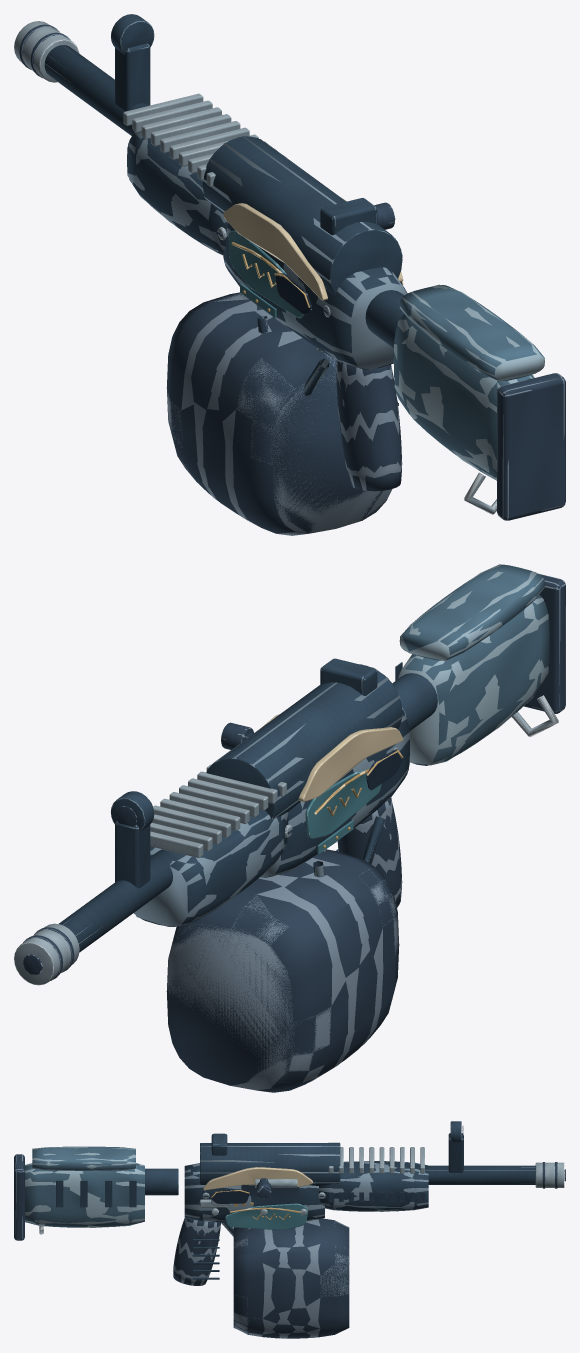
The model's file is anime-m249.glb.
3 views of the same model, one above another, from view 1: azimuth 30°, elevation 25°; view 2: azimuth 150°, elevation 25°; view 3: azimuth 270°, elevation 25° (orthographic). The views are drawn at different scales.
Visible parts, largest first — view 1: magazine_Olive rifle finish, weapon_Weapon finish / Parkerized steel, weapon_Polymer, World hardware, weapon_Weapon finish / Polymer, World paint, weapon_Parkerized steel, weapon_Machined edges, weapon_Weapon finish / Ivory enamel, weapon_Inset blue ceramic, weapon_Recessed graphite mechanism; view 2: magazine_Olive rifle finish, World hardware, weapon_Weapon finish / Parkerized steel, weapon_Weapon finish / Polymer, World paint, weapon_Parkerized steel, weapon_Machined edges, weapon_Polymer, weapon_Weapon finish / Ivory enamel, weapon_Inset blue ceramic, weapon_Recessed graphite mechanism; view 3: magazine_Olive rifle finish, weapon_Weapon finish / Parkerized steel, weapon_Weapon finish / Polymer, World paint, World hardware, weapon_Parkerized steel, weapon_Polymer, weapon_Machined edges, weapon_Inset blue ceramic, weapon_Weapon finish / Ivory enamel, weapon_Recessed graphite mechanism, weapon_Etched brass detail (+1 smaller).
Boxes of the visible parts, box(x1,y1,x2,y2) form: magazine_Olive rifle finish: box(166, 292, 397, 533); weapon_Weapon finish / Parkerized steel: box(127, 131, 407, 369); weapon_Polymer: box(19, 24, 565, 520); World hardware: box(14, 14, 565, 535); weapon_Weapon finish / Polymer: box(393, 285, 544, 480); World paint: box(127, 132, 544, 479); weapon_Parkerized steel: box(44, 14, 403, 405); weapon_Machined edges: box(14, 21, 496, 514); weapon_Weapon finish / Ivory enamel: box(223, 198, 402, 300); weapon_Inset blue ceramic: box(228, 230, 303, 318); weapon_Recessed graphite mechanism: box(275, 273, 402, 314); magazine_Olive rifle finish: box(166, 849, 399, 1092); World hardware: box(14, 573, 565, 1090); weapon_Weapon finish / Parkerized steel: box(134, 665, 409, 926); weapon_Weapon finish / Polymer: box(396, 564, 549, 765); World paint: box(134, 564, 548, 926); weapon_Parkerized steel: box(59, 658, 437, 952); weapon_Machined edges: box(14, 696, 558, 984); weapon_Polymer: box(23, 574, 565, 980); weapon_Weapon finish / Ivory enamel: box(260, 714, 403, 801); weapon_Inset blue ceramic: box(305, 770, 381, 854); weapon_Recessed graphite mechanism: box(366, 749, 402, 790); magazine_Olive rifle finish: box(233, 1218, 349, 1338); weapon_Weapon finish / Parkerized steel: box(184, 1143, 428, 1222); weapon_Weapon finish / Polymer: box(25, 1146, 144, 1227); World paint: box(25, 1142, 428, 1227); World hardware: box(14, 1122, 565, 1338); weapon_Parkerized steel: box(56, 1121, 535, 1279); weapon_Polymer: box(14, 1126, 565, 1285); weapon_Machined edges: box(39, 1147, 564, 1234); weapon_Inset blue ceramic: box(225, 1203, 307, 1229); weapon_Weapon finish / Ivory enamel: box(203, 1167, 312, 1189); weapon_Recessed graphite mechanism: box(211, 1189, 249, 1203); weapon_Etched brass detail: box(211, 1190, 300, 1220).
Bounding box in the file's own units: 0.1641 × 0.376 × 0.905.
Materials: 12 (10 with a texture image).
